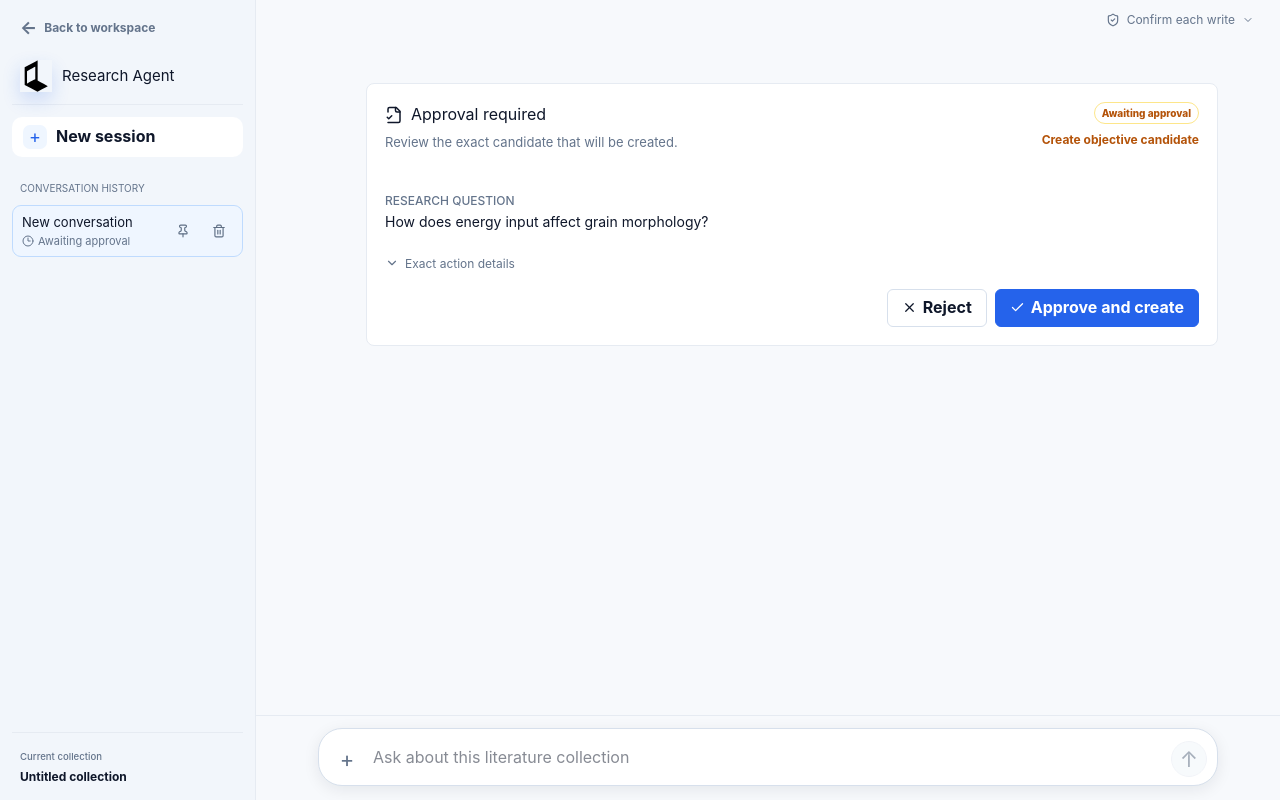
it: collections/[id]/assistant Research Agent › keeps an in-flight approval recoverable until its result arrives: manual
Click the button "Approve and create": (1097, 308) x1=995 y1=289 x2=1199 y2=327
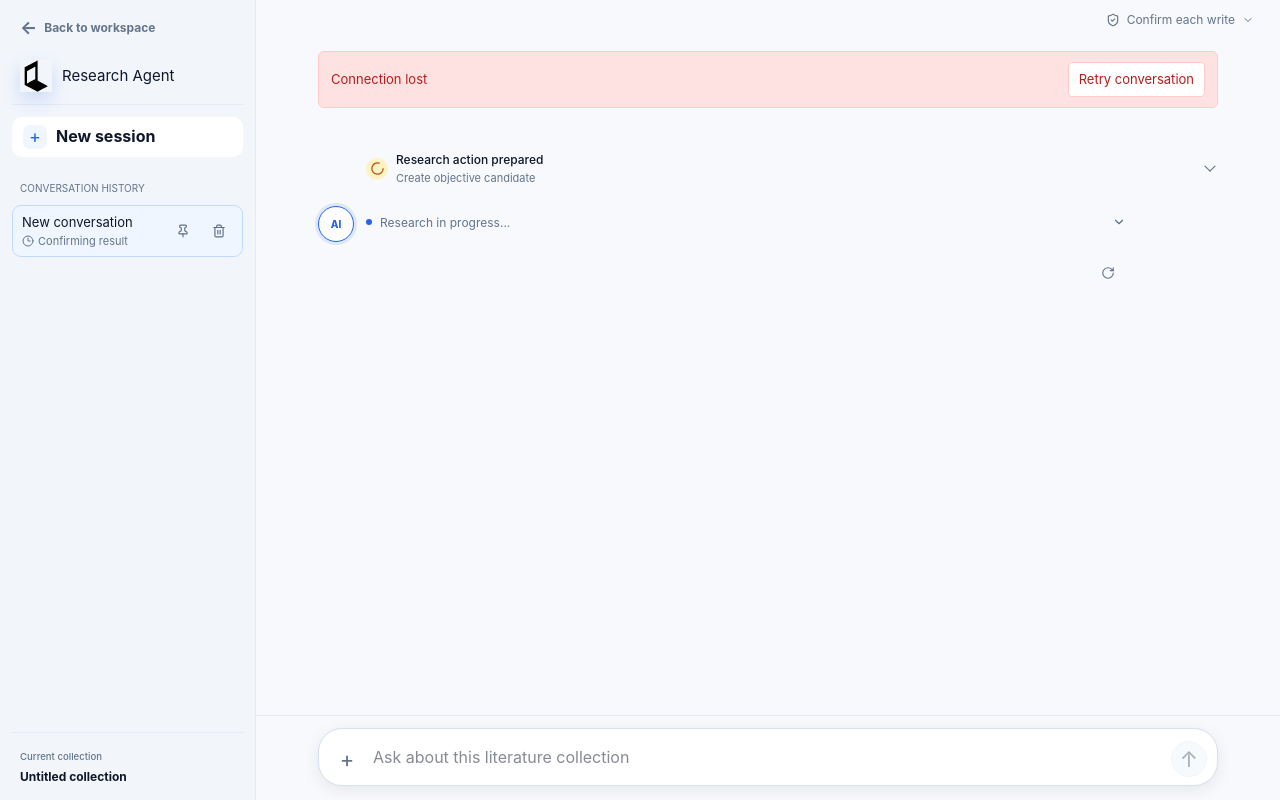
Click the button "Retry conversation": (1136, 80) x1=1068 y1=62 x2=1205 y2=97
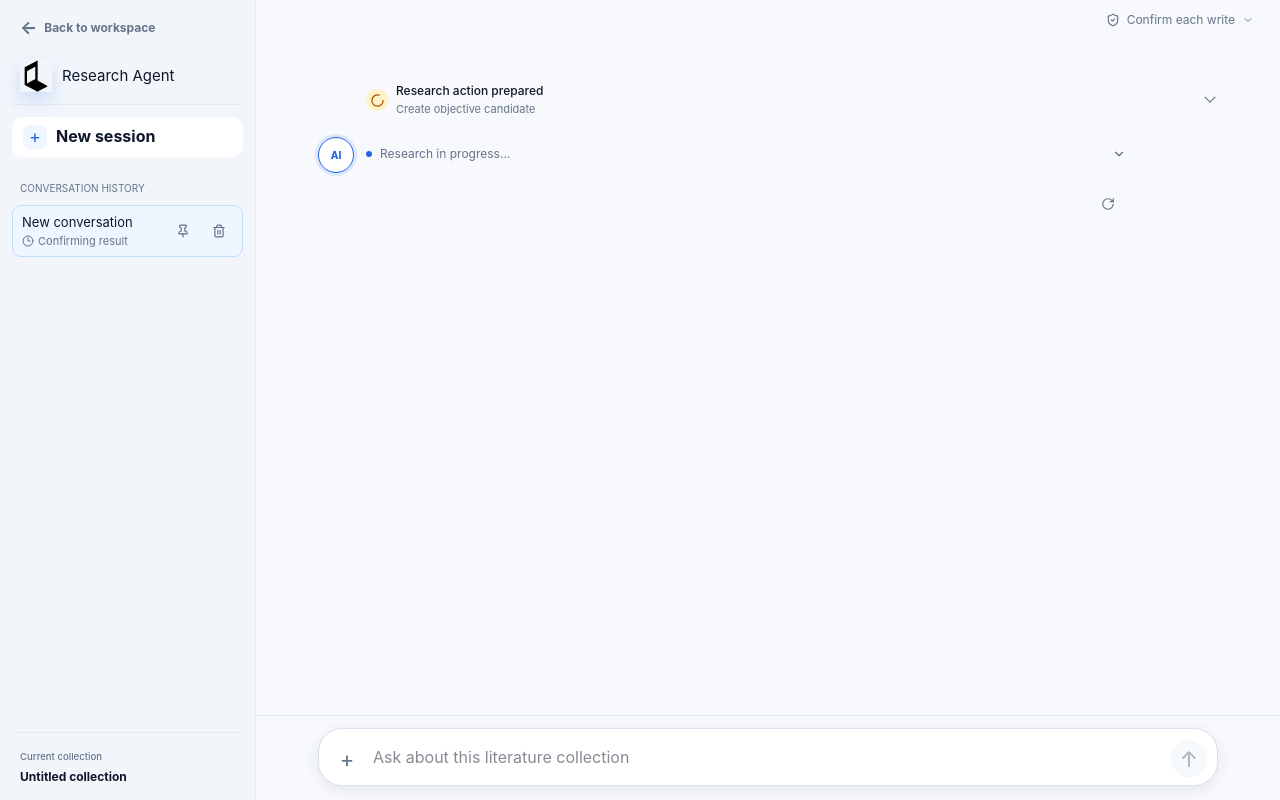
Expected: the text box named "Message" is disabled, x1=373 y1=737 x2=1163 y2=777
Now the element with test id "research-recovery" is shown
Click the button named "Check result": (1108, 204) x1=1090 y1=186 x2=1126 y2=222
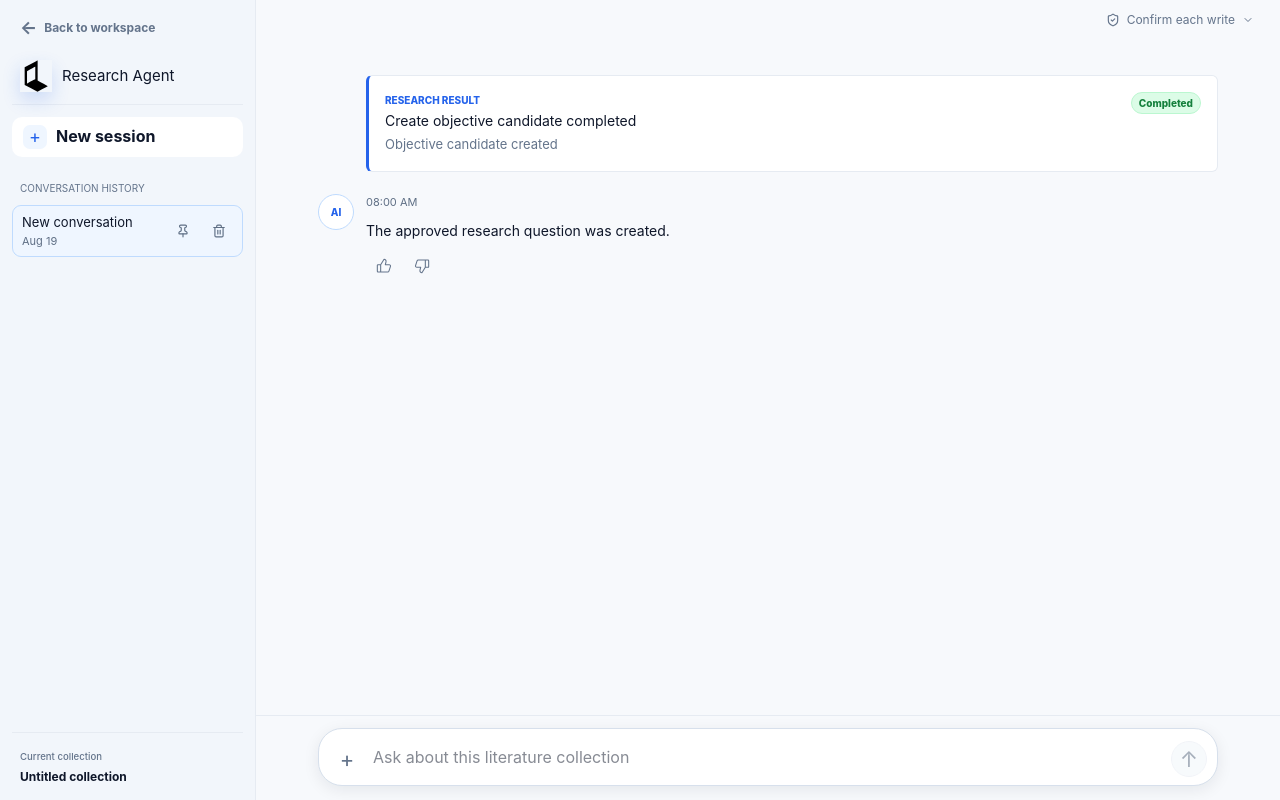
Expected: the text box named "Message" is enabled, x1=373 y1=737 x2=1163 y2=777
Now the text "The approved research question was created." is shown, box x1=366 y1=222 x2=670 y2=239
